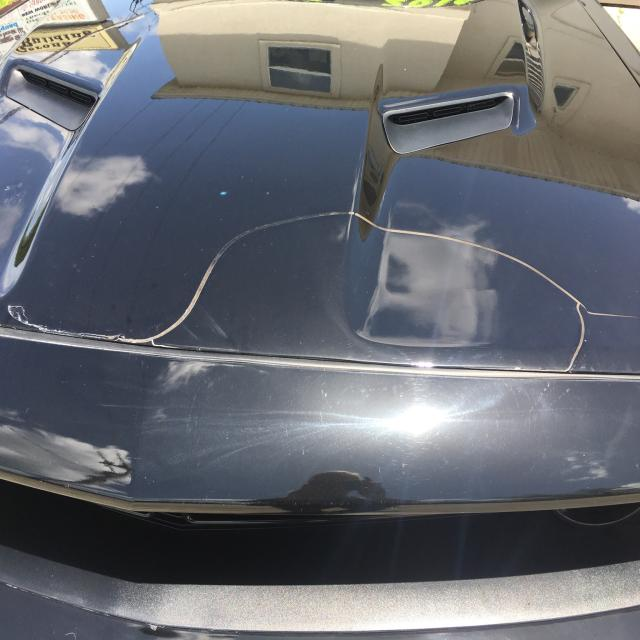scratch: (6, 205, 640, 372)
